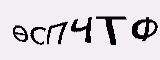О: (105, 17, 122, 40)
Р: (93, 19, 106, 39)
С: (43, 10, 59, 31)
Щ: (58, 15, 84, 35)
Э: (82, 18, 93, 37)
